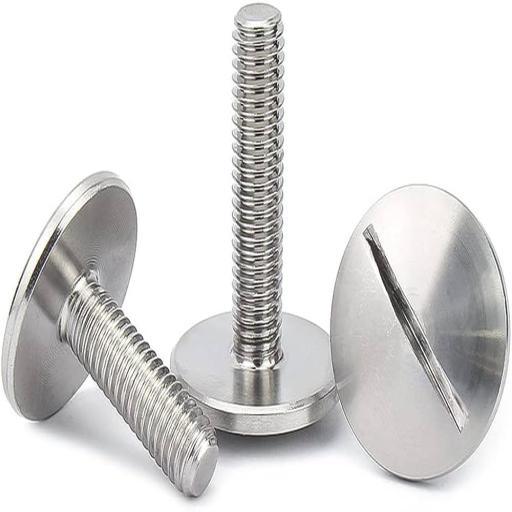Slotted: (328, 182, 506, 484)
